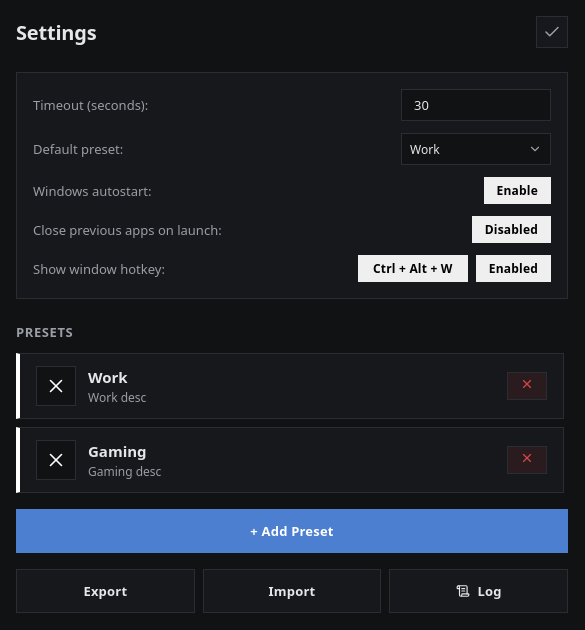
Scenario: SettingsView › installs autostart when enabling
Click the button "Enable" at coordinates (517, 190), box x1=484 y1=177 x2=551 y2=204
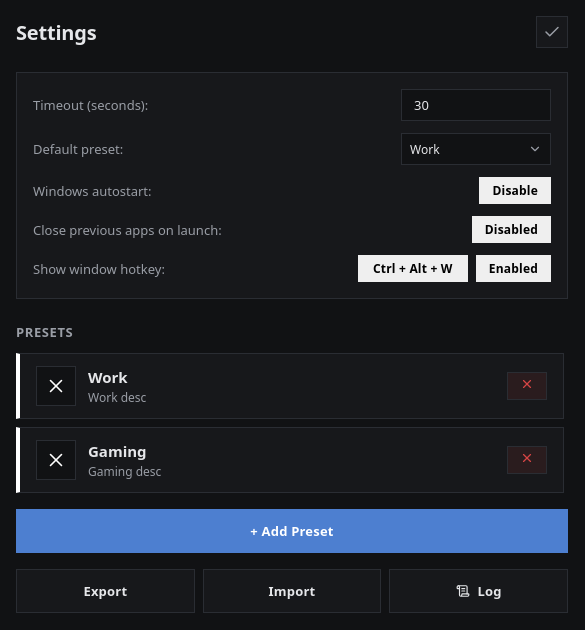
Expected: the button "Disable" is shown, x1=480 y1=177 x2=551 y2=204
